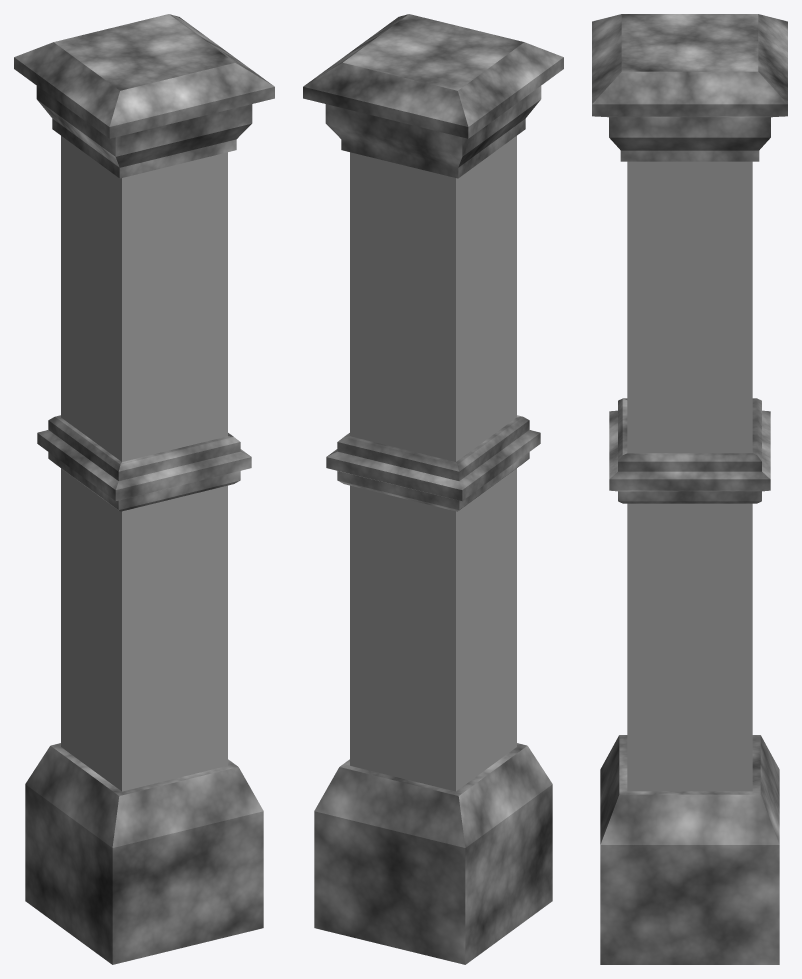
Rendered from MainGatePillar 1.fbx.
3 renders of one model, left to right at view 1: azimuth 30°, elevation 25°; view 2: azimuth 150°, elevation 25°; view 3: azimuth 270°, elevation 25°, orthographic. The views are drawn at different scales.
Parts seen in each view (by area): view 1: MainGatePillar; view 2: MainGatePillar; view 3: MainGatePillar.
Part boxes in pixels (bbox=[...]): MainGatePillar: bbox=[14, 14, 274, 964]; MainGatePillar: bbox=[303, 14, 563, 964]; MainGatePillar: bbox=[592, 14, 787, 964].
Size of the model in its own units: 0.8314 by 4.14 by 0.8314.
